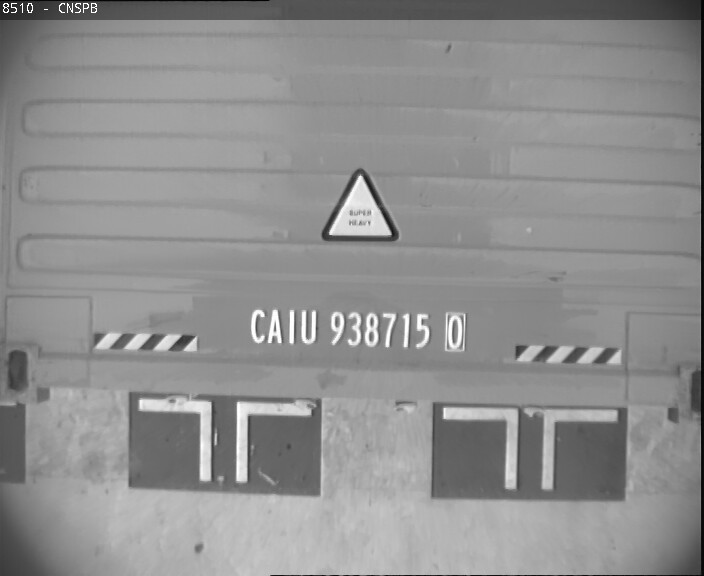groundmarker_1: (138, 397, 312, 483), (441, 407, 617, 488)
